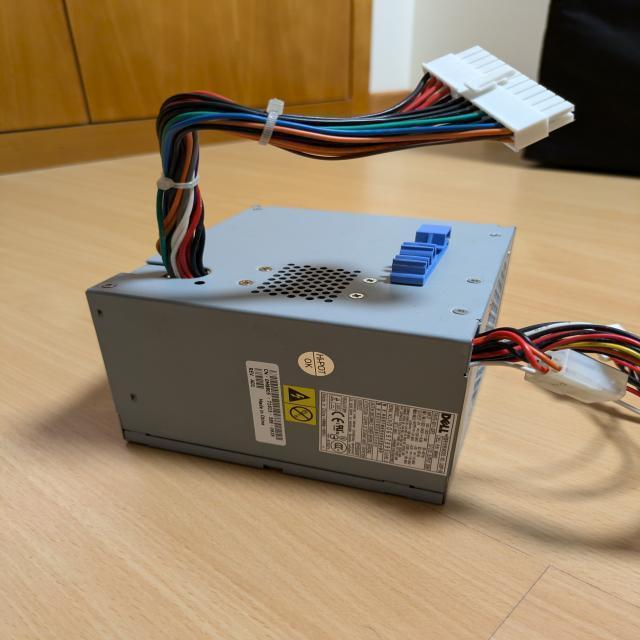PSU: (85, 204, 518, 506)
